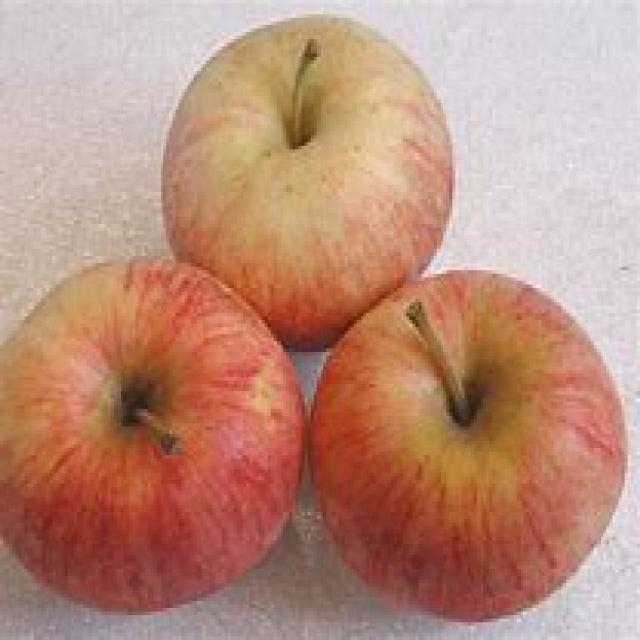apple: (308, 270, 628, 623), (0, 255, 308, 618), (160, 12, 455, 270)
